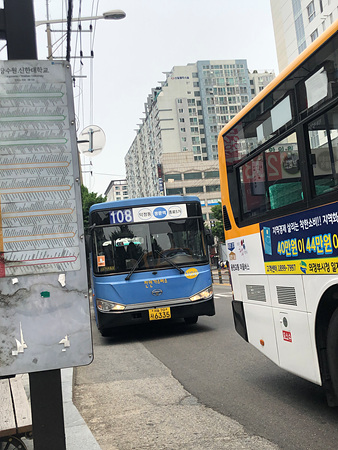bnum: (109, 210, 134, 222)
